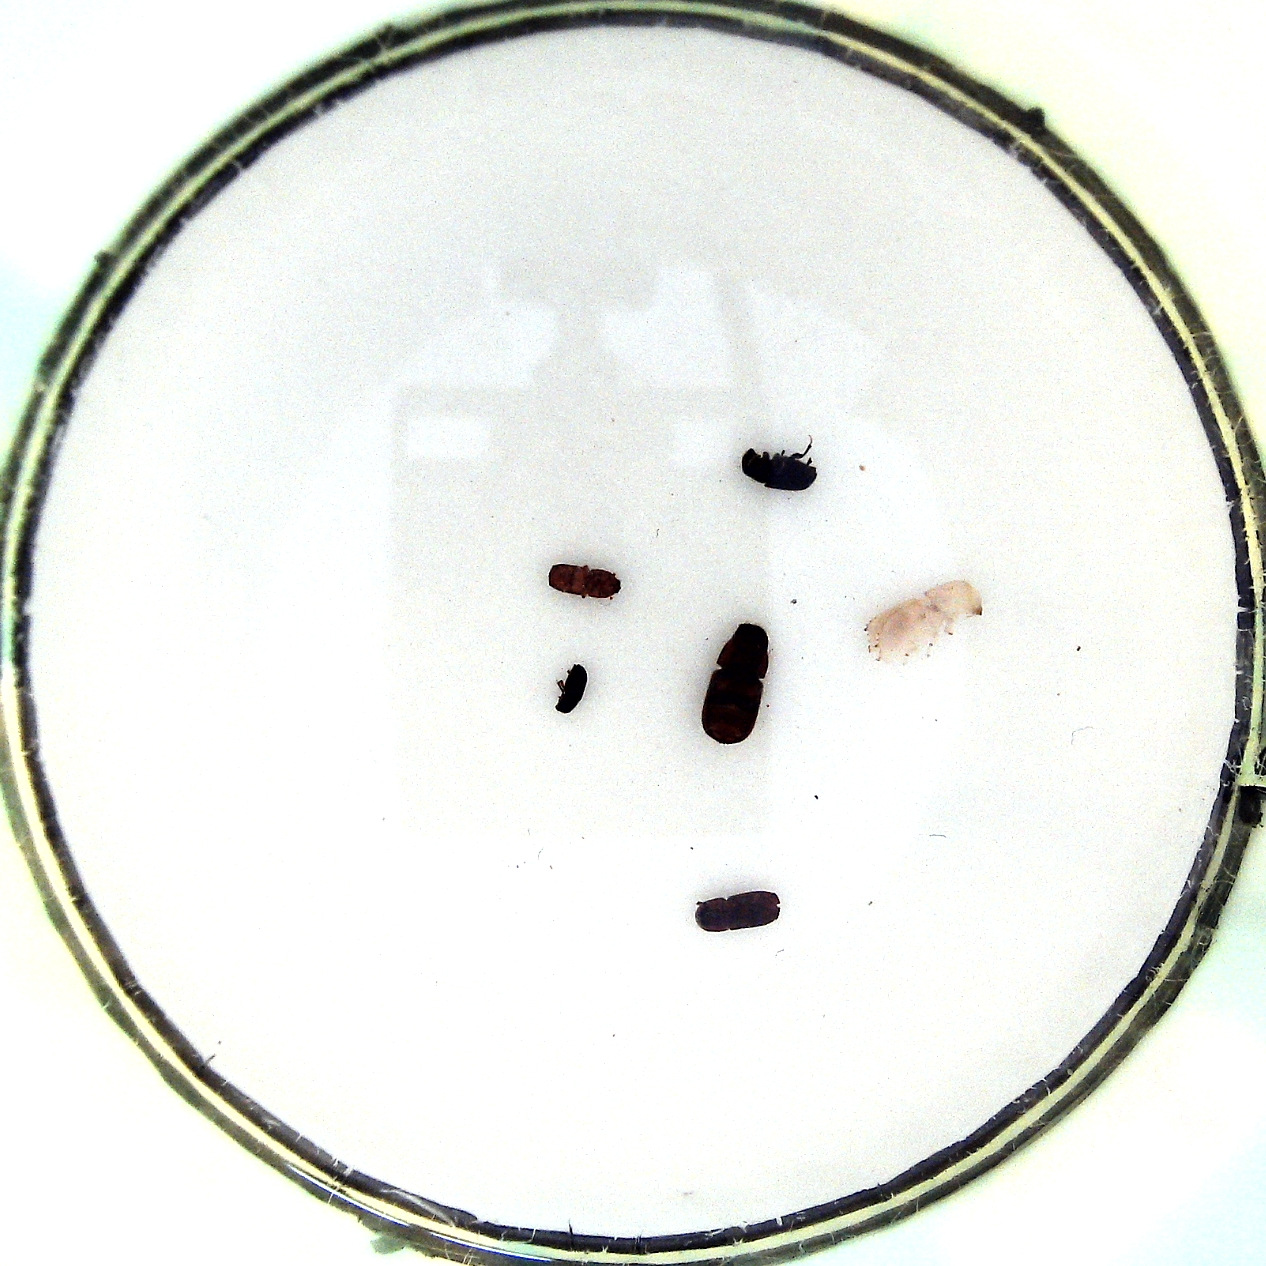Boerner: (864, 579, 992, 671)
Leconte: (698, 620, 780, 750)
Linnaeus: (690, 887, 788, 934)
acuminatus: (546, 556, 626, 605)
armandi: (739, 438, 821, 497)
coleoptera: (554, 656, 592, 720)
